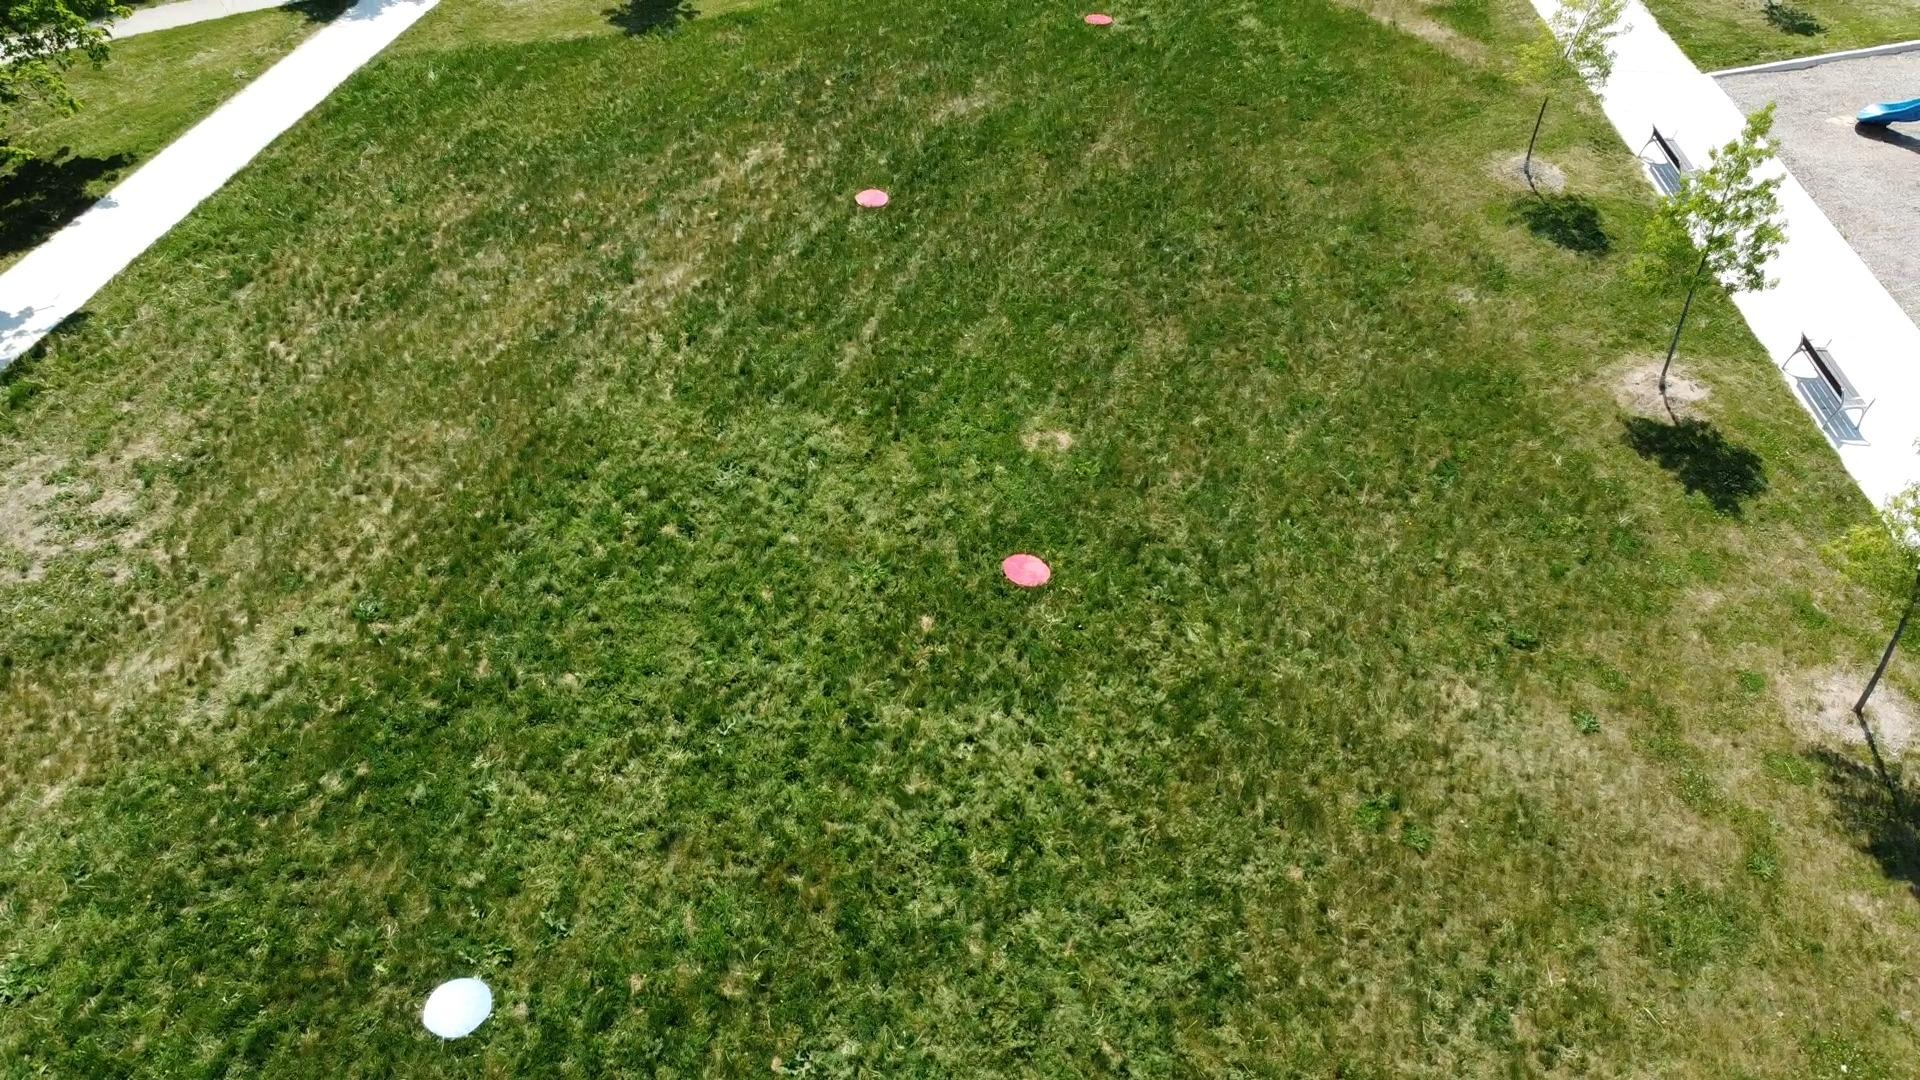Blue: (418, 972, 497, 1042)
Red: (1001, 549, 1055, 591), (853, 187, 889, 210), (1081, 12, 1114, 28)
